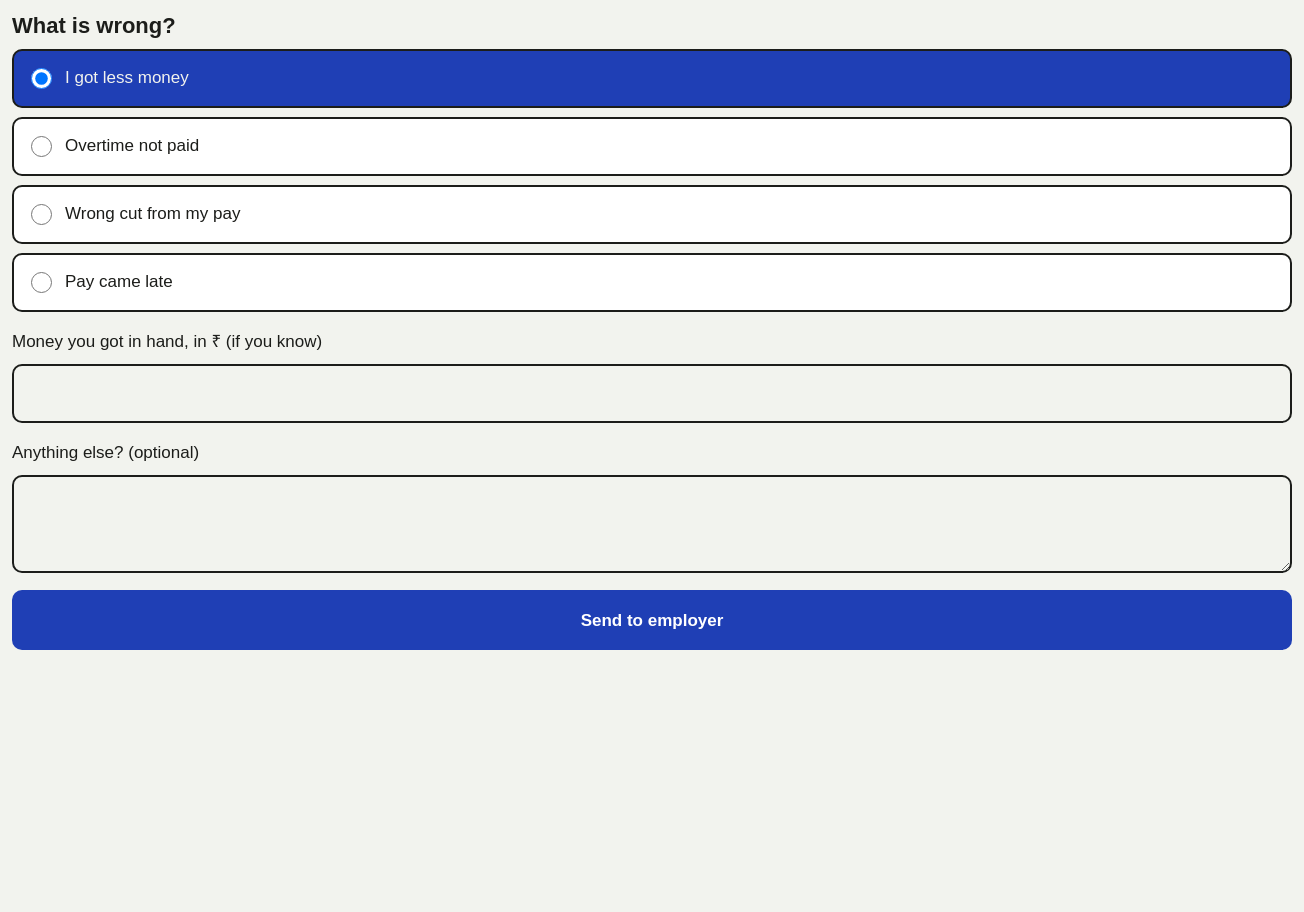
Test case: PayQueryForm › says so when sending fails
This screenshot has width=1304, height=912.
Click the button "Send to employer". click: (652, 620)
box: x1=12 y1=590 x2=1292 y2=650
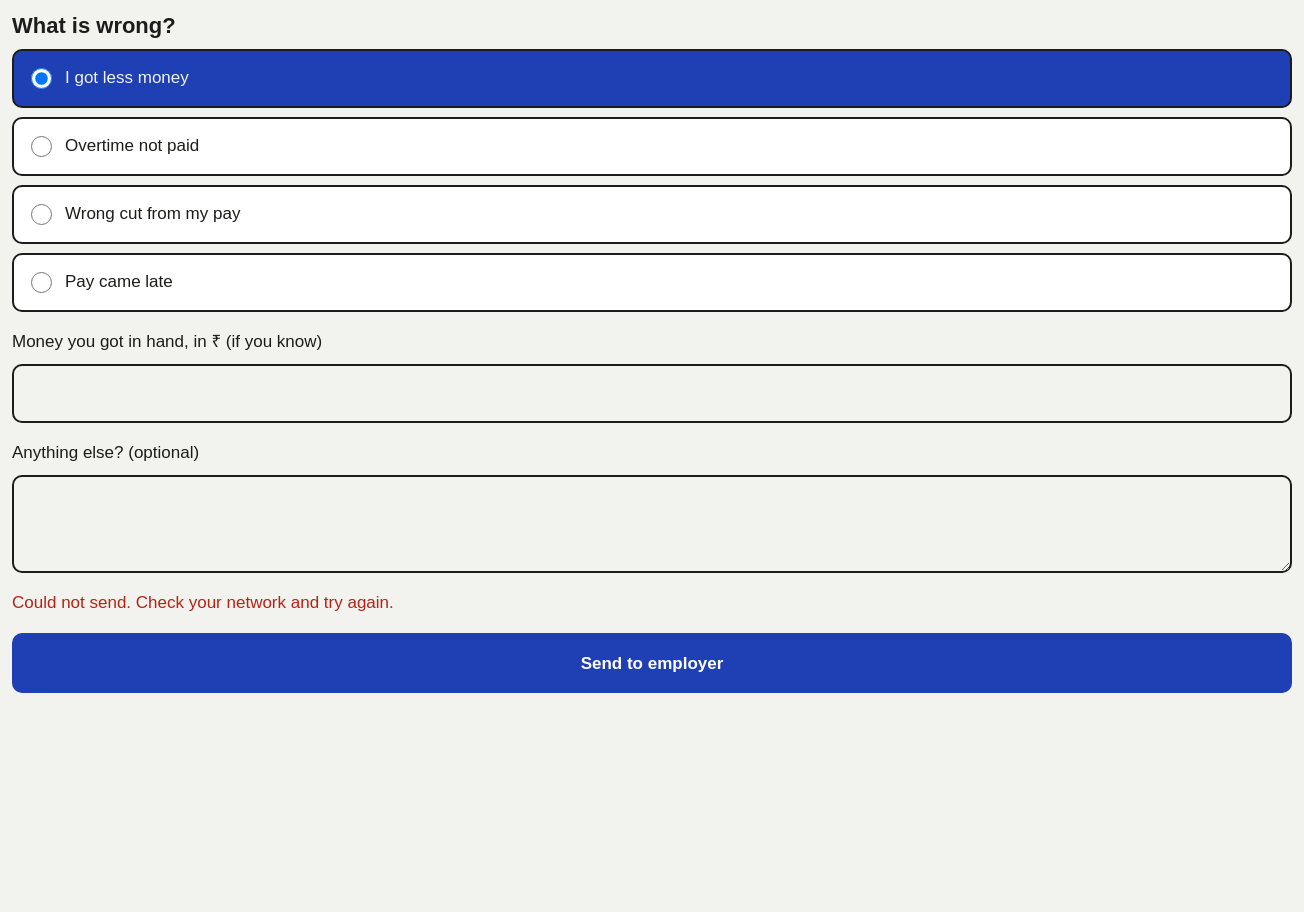
Expected: the message shows "Could not send", x1=12 y1=594 x2=394 y2=612
